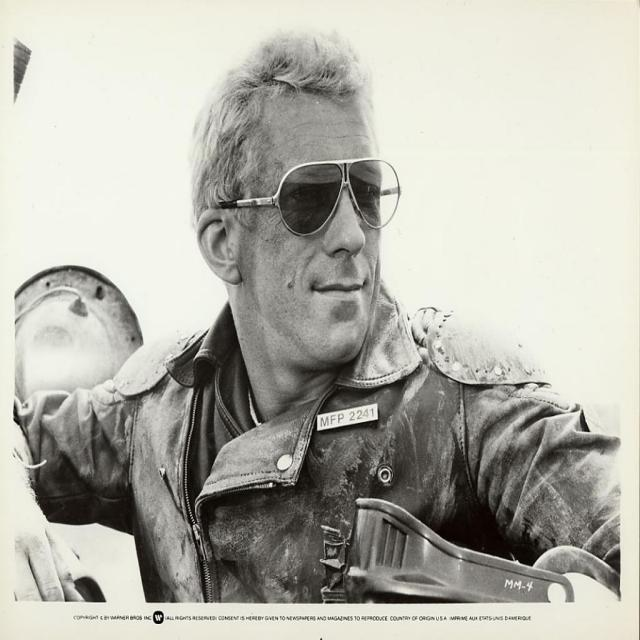nomask: (236, 87, 379, 363)
